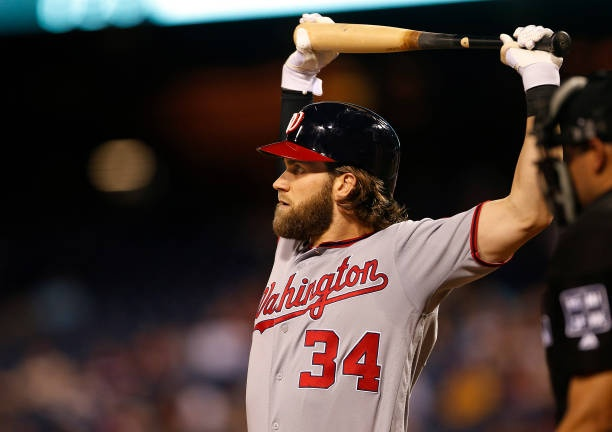bita: (285, 17, 576, 57)
